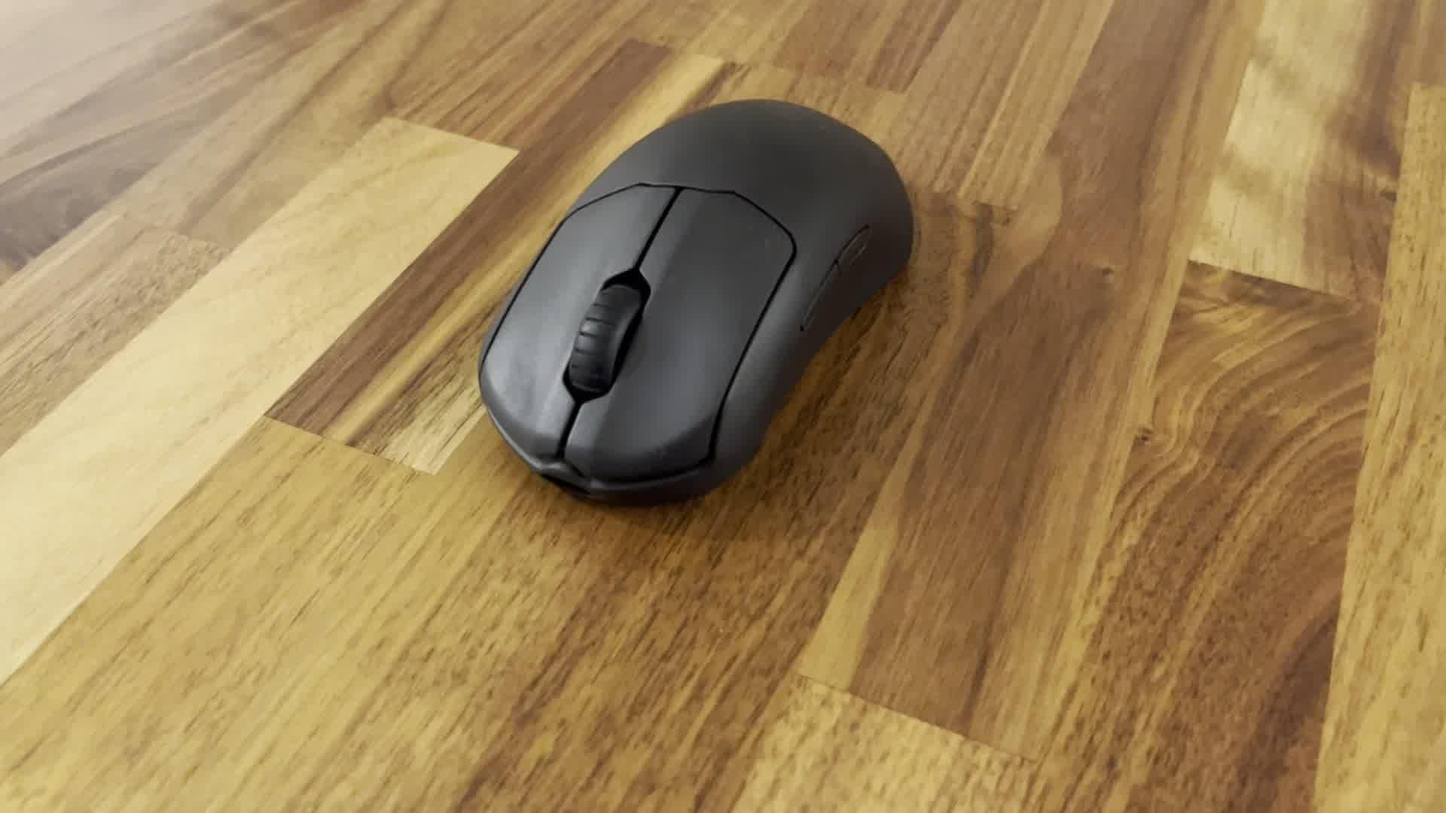steel-series: (472, 92, 919, 514)
